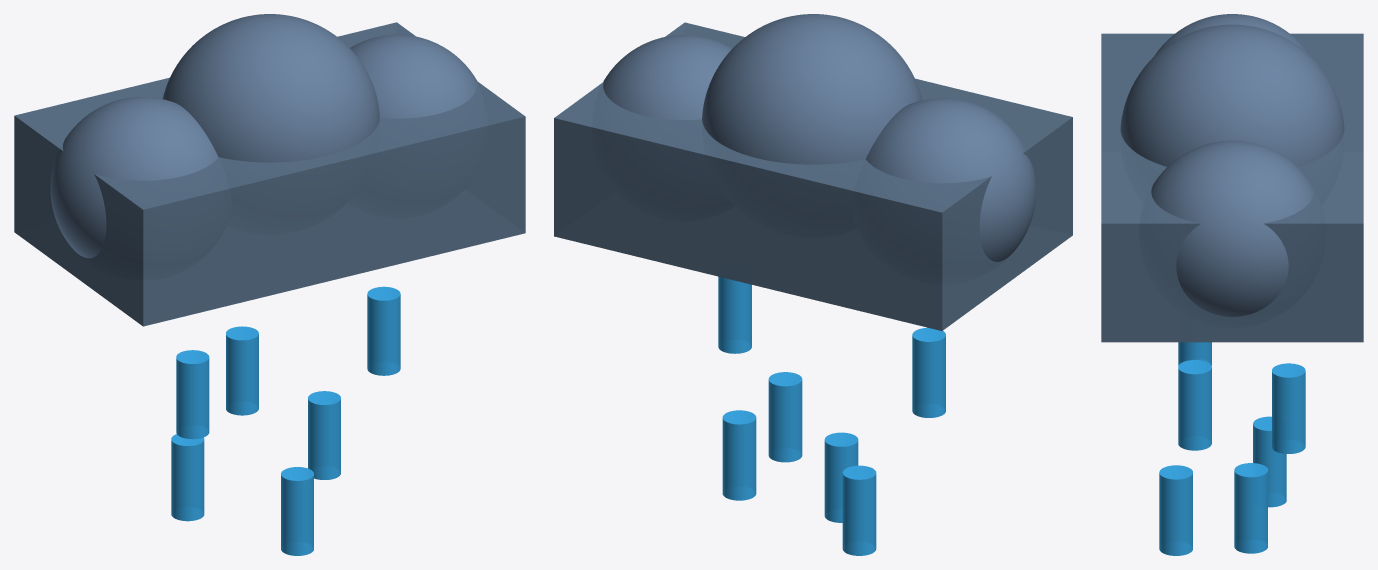
The model's file is yagmur.glb.
3 views of the same model, side by side, from view 1: azimuth 30°, elevation 25°; view 2: azimuth 150°, elevation 25°; view 3: azimuth 270°, elevation 25° (orthographic).
Bounding box in the file's own units: 0.026 × 0.0302 × 0.014.
